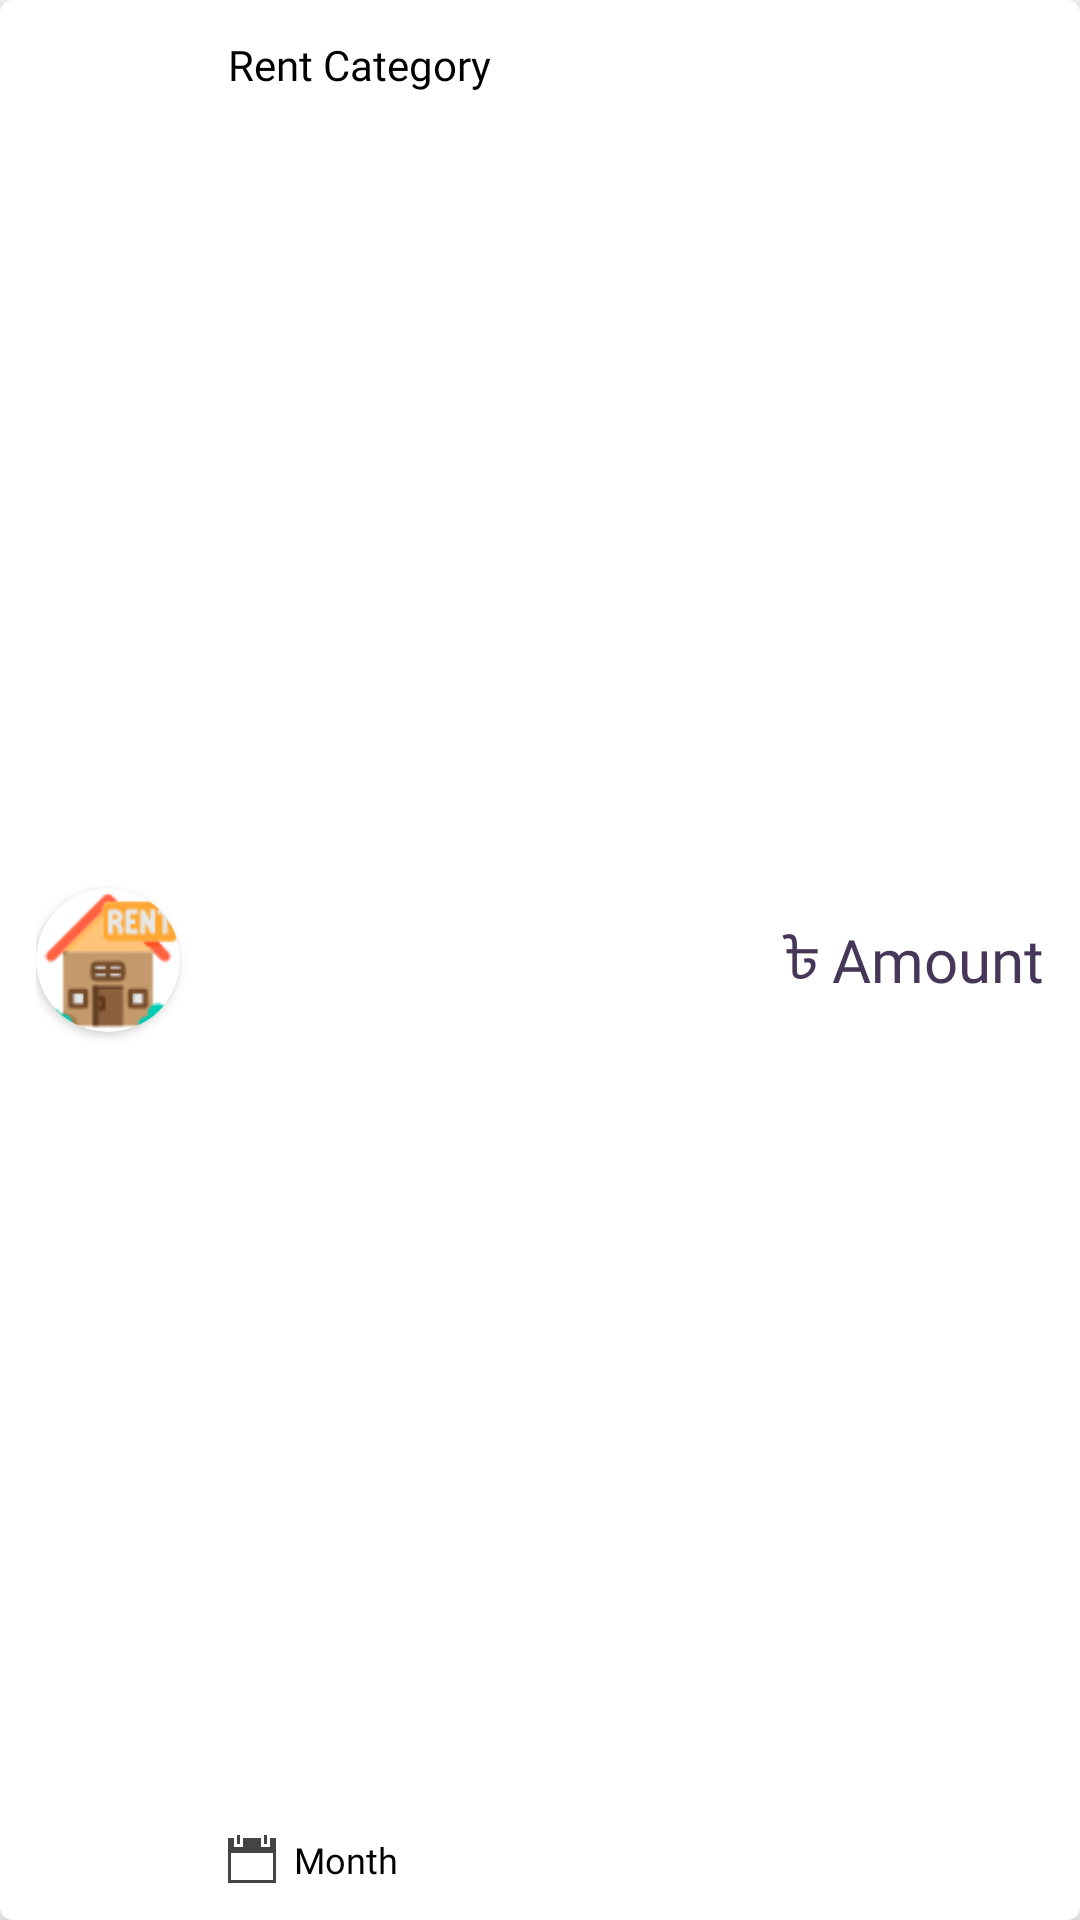

Named icons in this screenshot (1080 x 1920) and their bounding boxes, (x1, y1, x2, y2):
Calendar: (228, 1835, 276, 1883)
House Rent: (36, 893, 177, 1032)
